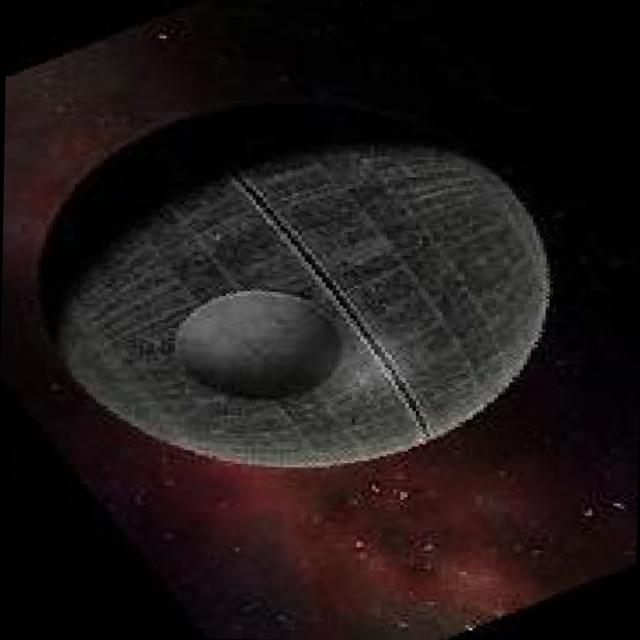Death Star: (39, 99, 551, 480)
